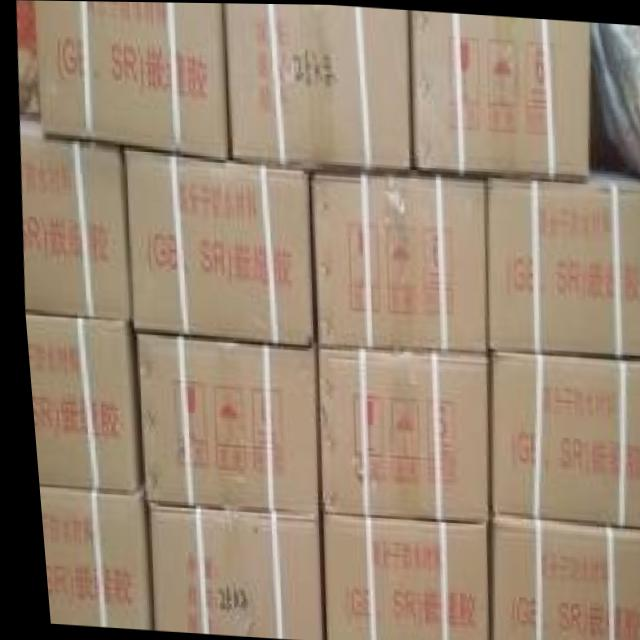box: (122, 150, 310, 347), (130, 335, 311, 514), (34, 0, 226, 162), (226, 3, 411, 171), (412, 10, 591, 181), (311, 174, 482, 350), (311, 348, 482, 522), (483, 170, 640, 357), (483, 353, 640, 525), (140, 502, 314, 638), (20, 113, 128, 319), (20, 309, 134, 494), (314, 516, 480, 640), (479, 514, 640, 640), (31, 490, 141, 627)
